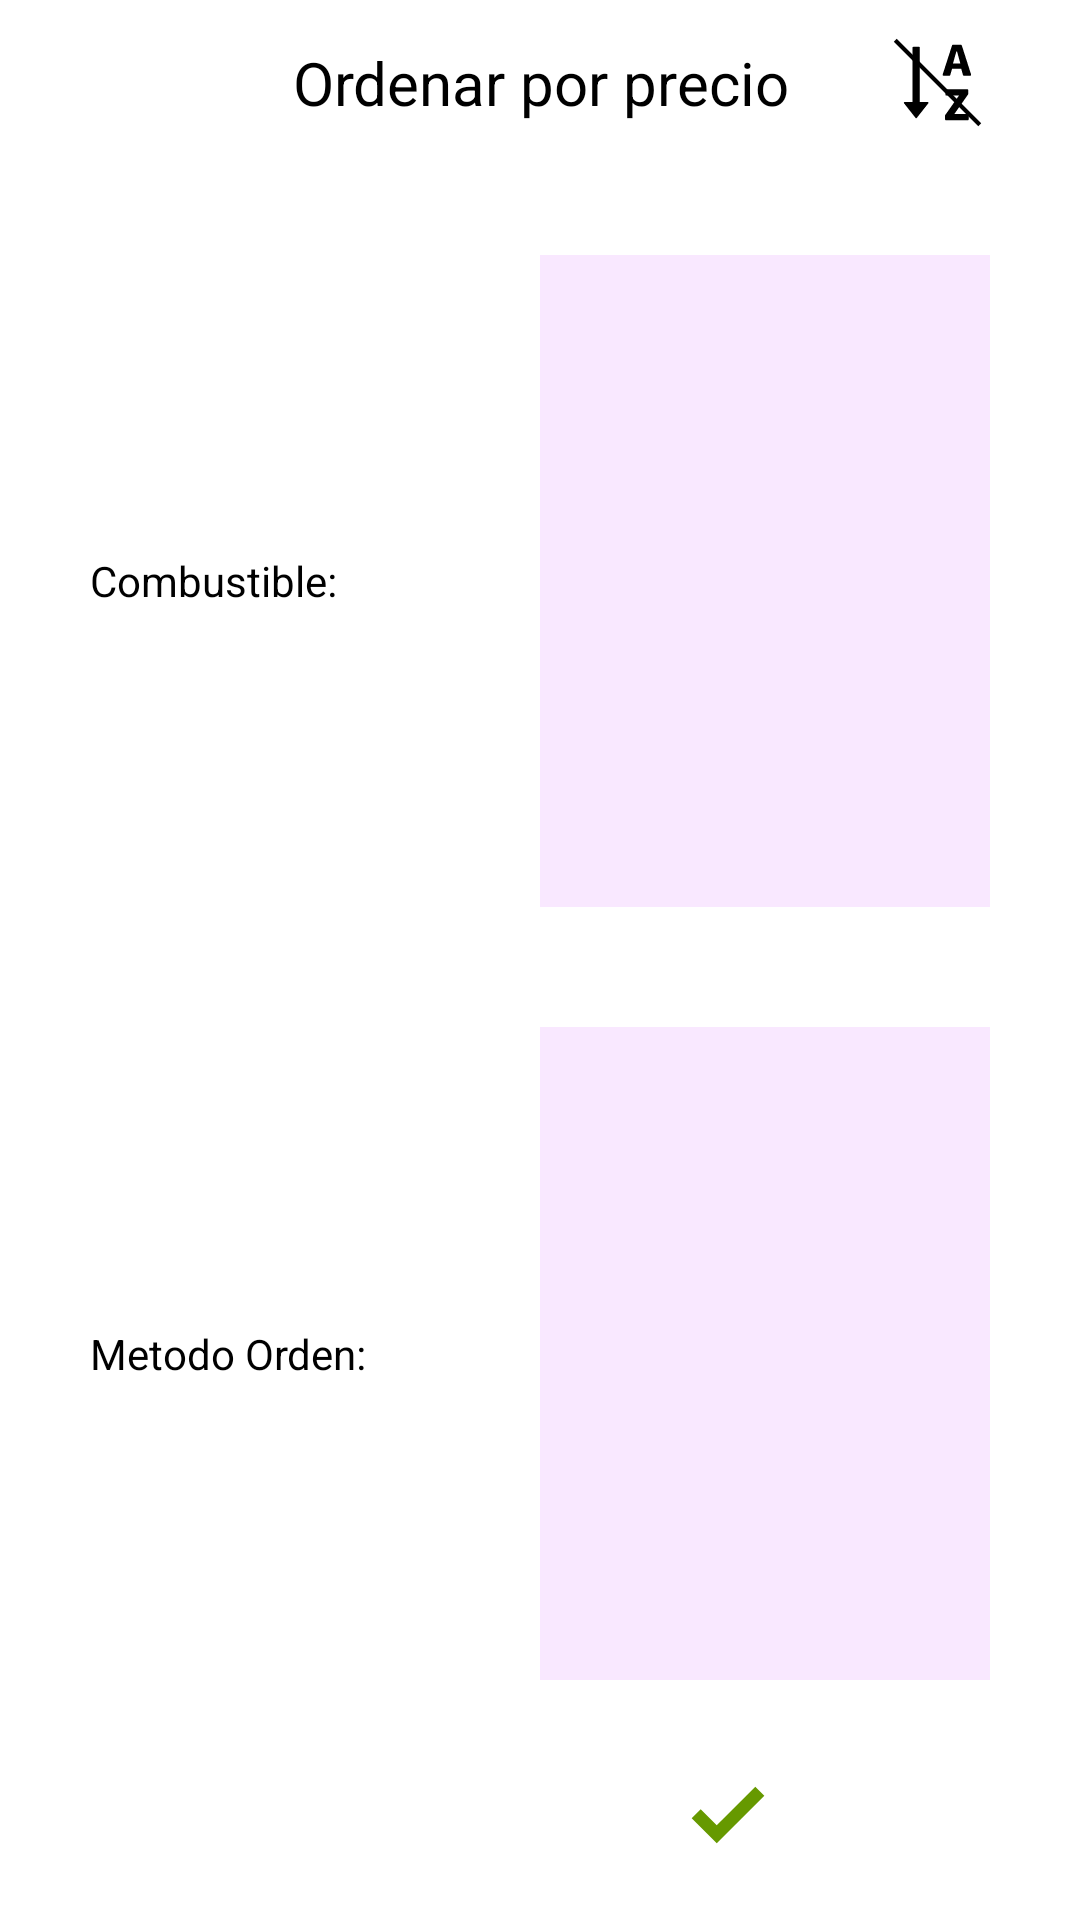

Named icons in this screenshot (1080 x 1920) and their centers, (x,y):
sort generic cross: (937,82)
tick: (727,1815)
